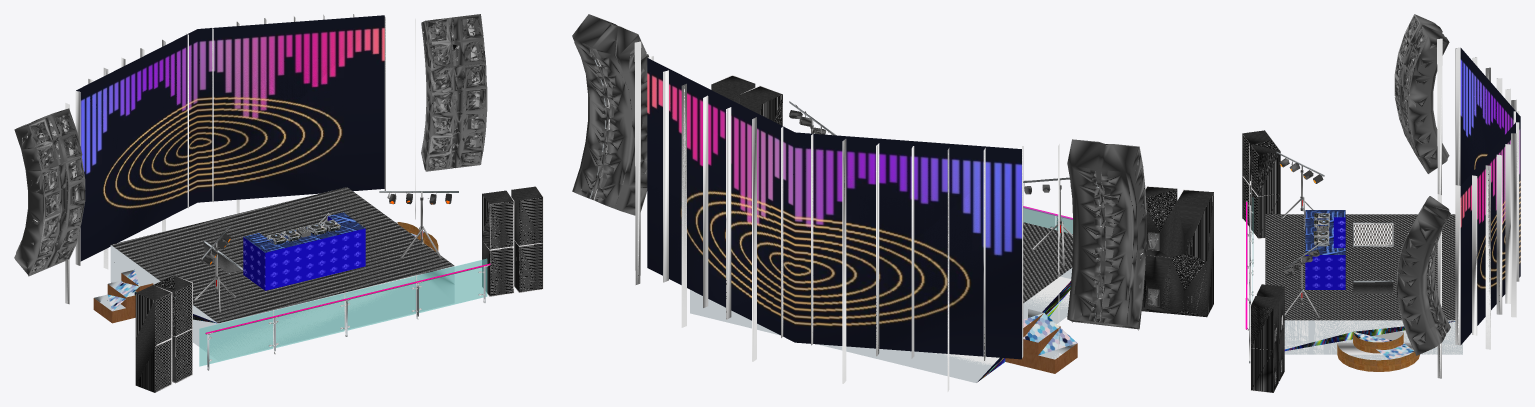
Rendered from dj-stage.glb.
3 renders of one model, left to right at view 1: azimuth 30°, elevation 25°; view 2: azimuth 150°, elevation 25°; view 3: azimuth 270°, elevation 25°, orthographic. The views are drawn at different scales.
Visible parts, largest first — view 1: Mesh1520_Material #2_0, Mesh1891_Metal_Steel_Textured_0, Mesh133_Color_008_0, Mesh1174_Translucent_Glass_Blue_0, Mesh1_BackColor_0, Mesh709__Fencing_Diamond_Mesh_1_0, Mesh703__Carpet_Plush_Charcoal_1_0, Mesh1891_Tile_Navy_0, Mesh133_Color_007_0, Mesh42_FrontColor_0, Mesh1521_Mirror_02_0, Mesh1190_Gray6_0 (+6 smaller); view 2: Mesh1520_Material #2_0, Mesh133_Color_008_0, Mesh1521_Mirror_02_0, Mesh703__Carpet_Plush_Charcoal_1_0, Mesh1_BackColor_0, Mesh1891_Metal_Steel_Textured_0, Mesh1891_Wood_Veneer_01_0, Mesh42_FrontColor_0, Mesh1891_Mosaic_Hexagonal_Tile_0, Mesh1174_Translucent_Glass_Blue_0; view 3: Mesh133_Color_008_0, Mesh1891_Metal_Steel_Textured_0, Mesh1520_Material #2_0, Mesh1521_Mirror_02_0, Mesh703__Carpet_Plush_Charcoal_1_0, Mesh1_BackColor_0, Mesh42_FrontColor_0, Mesh1891_Wood_Floor_Parquet_0, Mesh1891_Tile_Navy_0, Mesh709__Fencing_Diamond_Mesh_1_0, Mesh1891_Carrera_Marble_0, Mesh133_Fencing_Diamond_Mesh_0 (+9 smaller).
Boxes of the visible parts, <box> form: Mesh1520_Material #2_0: <box>76,15,384,261</box>; Mesh1891_Metal_Steel_Textured_0: <box>111,187,454,323</box>; Mesh133_Color_008_0: <box>14,14,487,276</box>; Mesh1174_Translucent_Glass_Blue_0: <box>199,258,487,366</box>; Mesh1_BackColor_0: <box>94,36,490,370</box>; Mesh709__Fencing_Diamond_Mesh_1_0: <box>155,197,542,391</box>; Mesh703__Carpet_Plush_Charcoal_1_0: <box>135,186,542,392</box>; Mesh1891_Tile_Navy_0: <box>243,228,365,290</box>; Mesh133_Color_007_0: <box>29,18,452,273</box>; Mesh42_FrontColor_0: <box>22,32,484,370</box>; Mesh1521_Mirror_02_0: <box>65,14,415,304</box>; Mesh1190_Gray6_0: <box>37,19,480,268</box>; Mesh1520_Material #2_0: <box>647,58,1021,359</box>; Mesh133_Color_008_0: <box>572,14,1146,329</box>; Mesh1521_Mirror_02_0: <box>634,41,1059,391</box>; Mesh703__Carpet_Plush_Charcoal_1_0: <box>711,76,1213,317</box>; Mesh1_BackColor_0: <box>589,59,1157,382</box>; Mesh1891_Metal_Steel_Textured_0: <box>1023,222,1072,302</box>; Mesh1891_Wood_Veneer_01_0: <box>1005,313,1077,373</box>; Mesh42_FrontColor_0: <box>593,53,1158,365</box>; Mesh1891_Mosaic_Hexagonal_Tile_0: <box>1023,313,1077,355</box>; Mesh1174_Translucent_Glass_Blue_0: <box>1023,207,1072,233</box>; Mesh133_Color_008_0: <box>1279,14,1450,355</box>; Mesh1891_Metal_Steel_Textured_0: <box>1265,214,1455,320</box>; Mesh1520_Material #2_0: <box>1460,48,1520,344</box>; Mesh1521_Mirror_02_0: <box>1437,38,1519,378</box>; Mesh703__Carpet_Plush_Charcoal_1_0: <box>1242,130,1284,392</box>; Mesh1_BackColor_0: <box>1245,192,1462,377</box>; Mesh42_FrontColor_0: <box>1249,53,1462,360</box>; Mesh1891_Wood_Floor_Parquet_0: <box>1337,332,1419,371</box>; Mesh1891_Tile_Navy_0: <box>1305,255,1345,289</box>; Mesh709__Fencing_Diamond_Mesh_1_0: <box>1242,134,1257,237</box>; Mesh1891_Carrera_Marble_0: <box>1305,210,1345,254</box>; Mesh133_Fencing_Diamond_Mesh_0: <box>1354,223,1392,245</box>.
Bounding box in the file's own units: 3.27 × 1.4 × 1.87.
74 materials, 24 textured.
